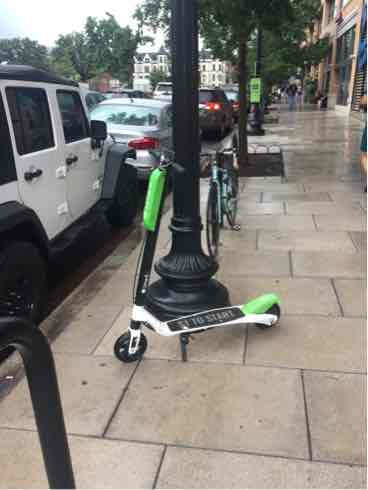scooter: (109, 131, 295, 364)
